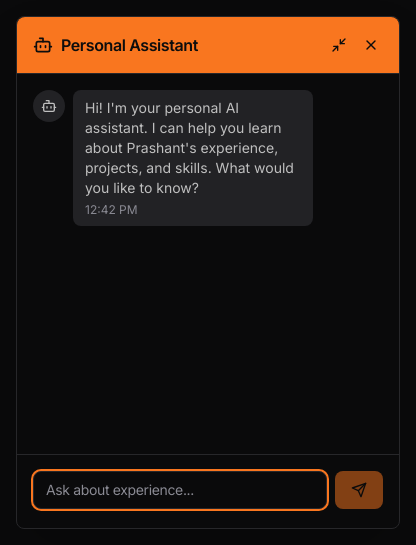
Scenario: ChatAssistant › sends a trimmed message and renders the assistant response
The image size is (416, 545).
Type "  Tell me about projects  " into the field with placeholder "Ask about experience..." at (180, 490), box [33,471,327,509]
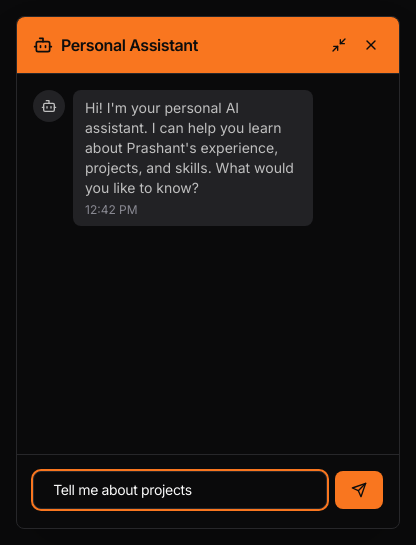
Press Enter in the field with placeholder "Ask about experience...", box [33,471,327,509]
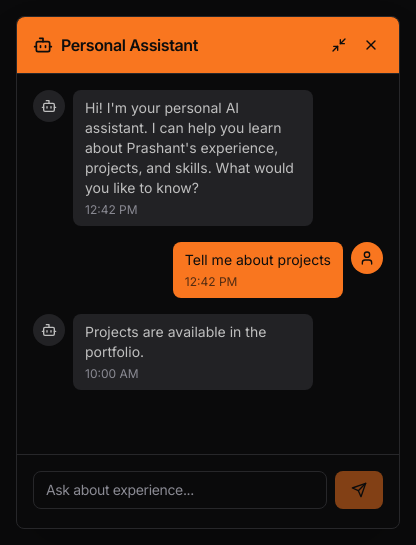
Expected: the text "Tell me about projects" is shown, [185,250,331,270]
Expected: the text "Projects are available in the portfolio." is shown, [85,322,301,362]
